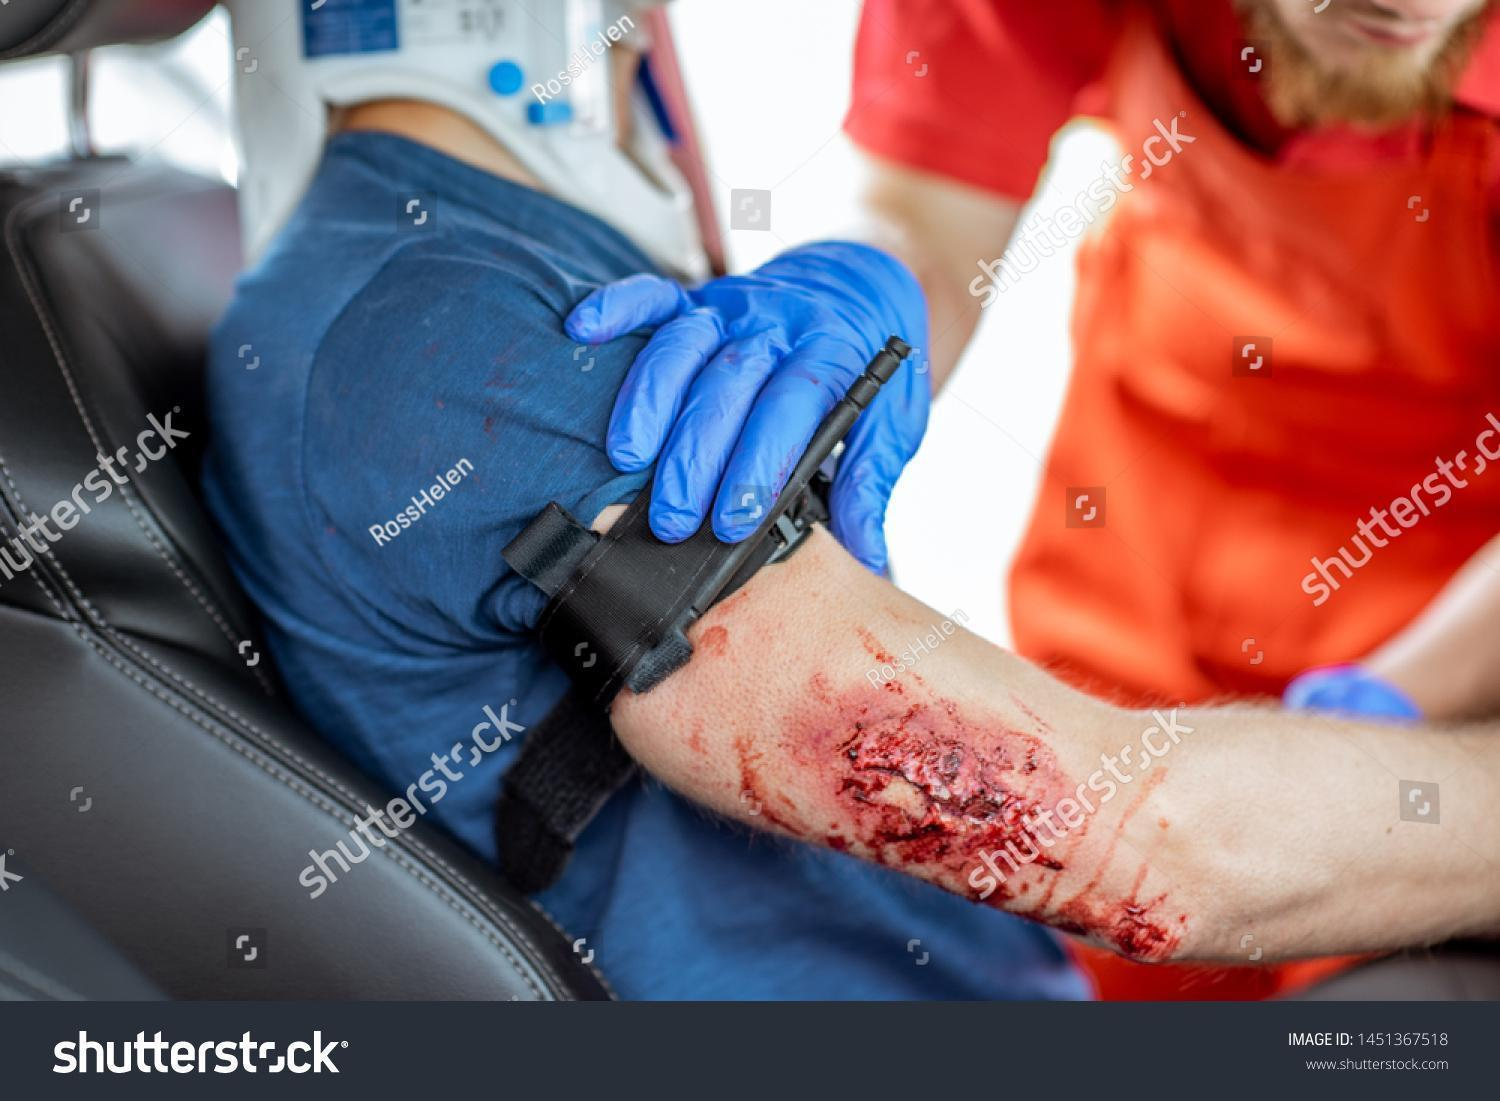Fire: (835, 704, 1057, 878), (738, 743, 871, 860), (1063, 844, 1182, 964)
